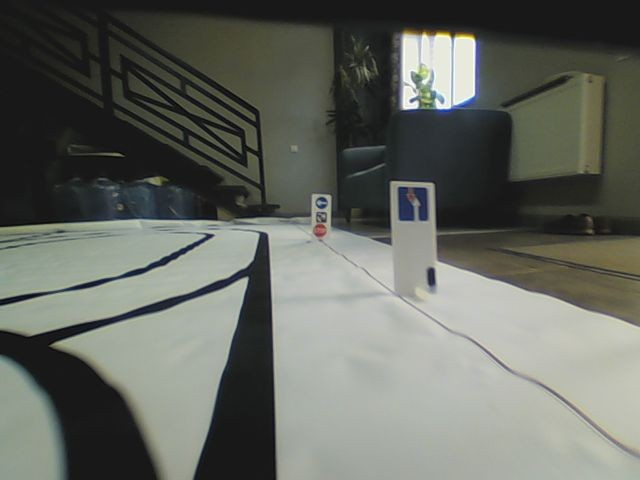priority_movement: (395, 185, 432, 222)
